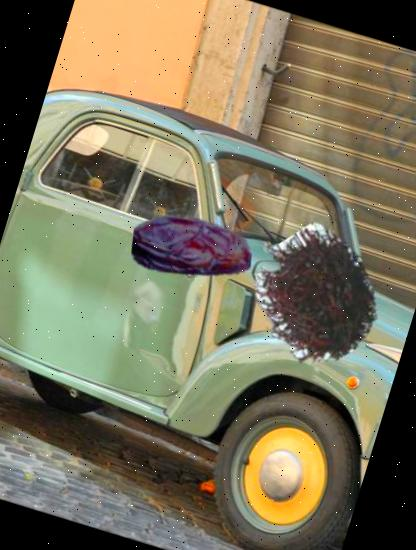Dates: (117, 171, 268, 322)
Rambutan: (234, 216, 396, 378)
